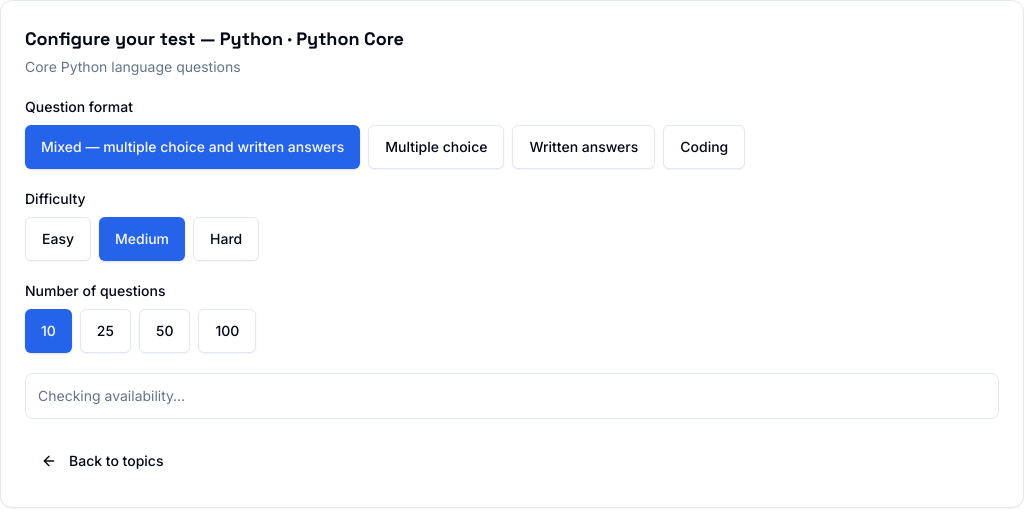
Test: #1679 — items 3–5 + NIT hardening › item 3: AI-scoring disclosure is ABSENT for an MCQ-only configuration
The width and height of the screenshot is (1024, 525).
Step 1. Click the button "Multiple choice" → (436, 147), box [368, 125, 504, 169]
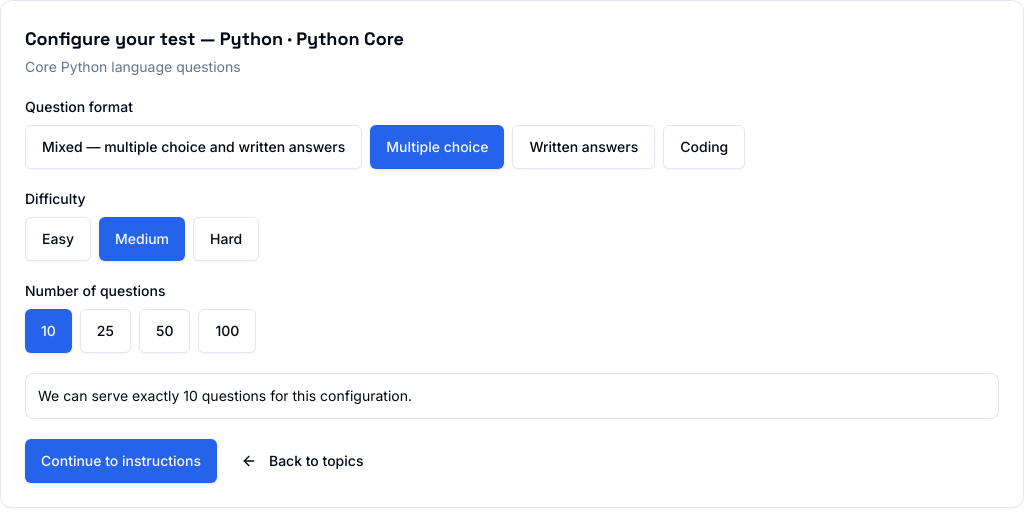
Step 2. Click the button "Continue to instructions" → (121, 461), box [25, 439, 217, 483]
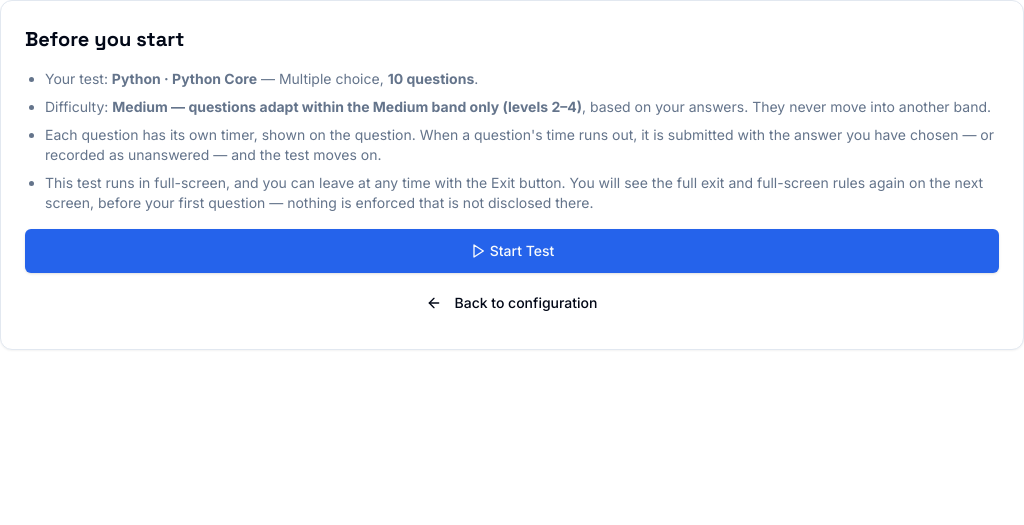
Check: the heading "Before you start" is shown, box [25, 26, 184, 52]
